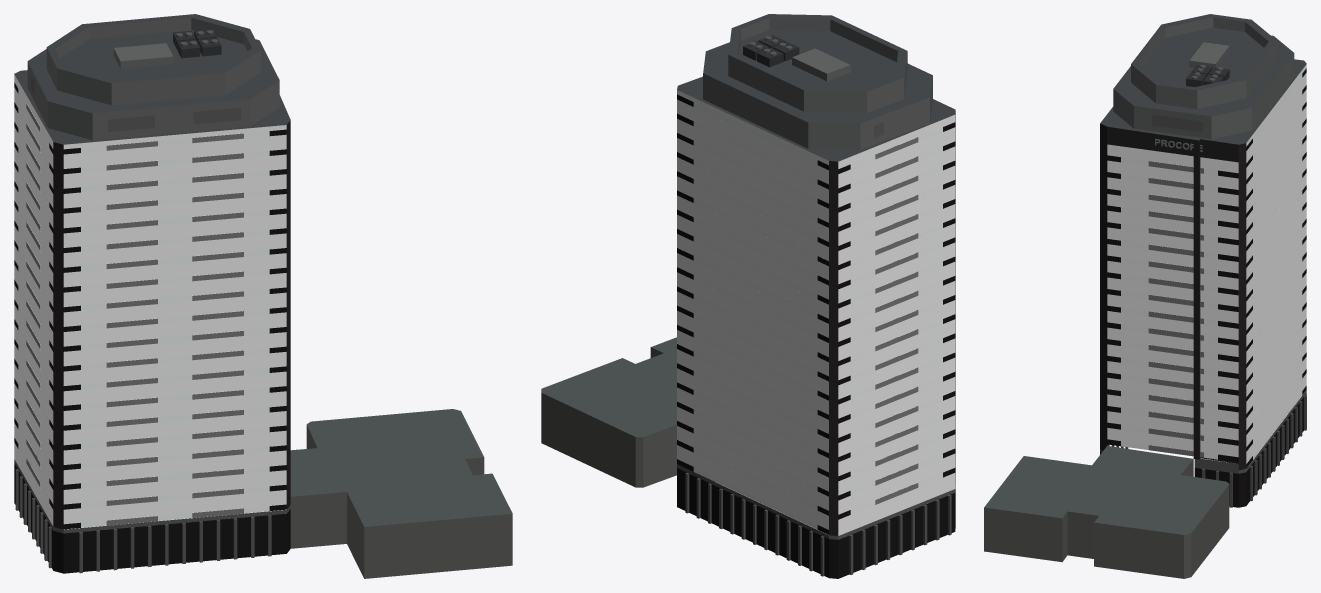
The picture shows the model from 3 angles, left to right: view 1: azimuth 30°, elevation 25°; view 2: azimuth 150°, elevation 25°; view 3: azimuth 270°, elevation 25°; orthographic projection. The views are drawn at different scales.
Visible parts, largest first — view 1: glass, opaque; view 2: glass, opaque; view 3: glass, opaque.
Boxes of the visible parts, x1,y1,x2,y2 form: glass: (14,74,290,573); opaque: (14,14,512,578); glass: (677,90,955,578); opaque: (541,14,955,576); glass: (1100,64,1306,507); opaque: (984,14,1306,578).
Bounding box in the file's own units: 89.09 × 97.6 × 70.61.
2 materials, 2 textured.
